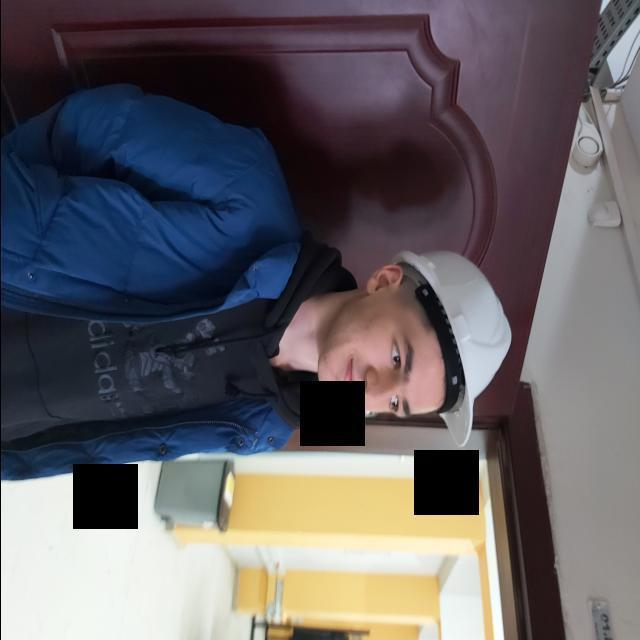white helmet: (388, 240, 511, 454)
